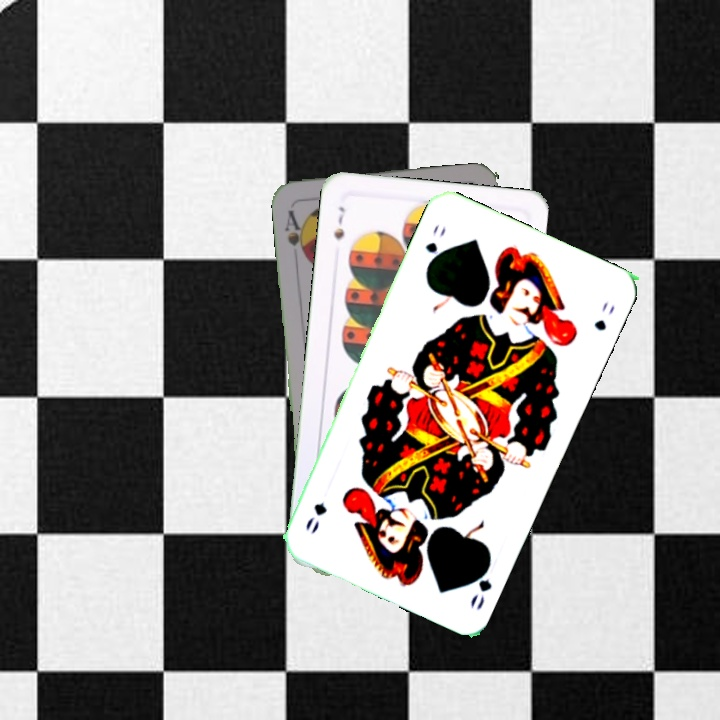GO: (466, 554, 495, 614), (421, 221, 449, 272)
S7: (330, 202, 348, 242)
SA: (280, 206, 309, 260)
